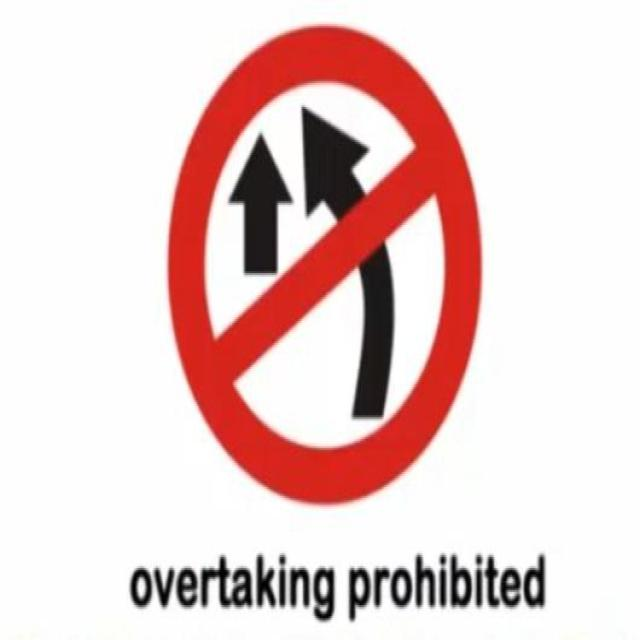No_overtaking: (167, 29, 481, 496)
